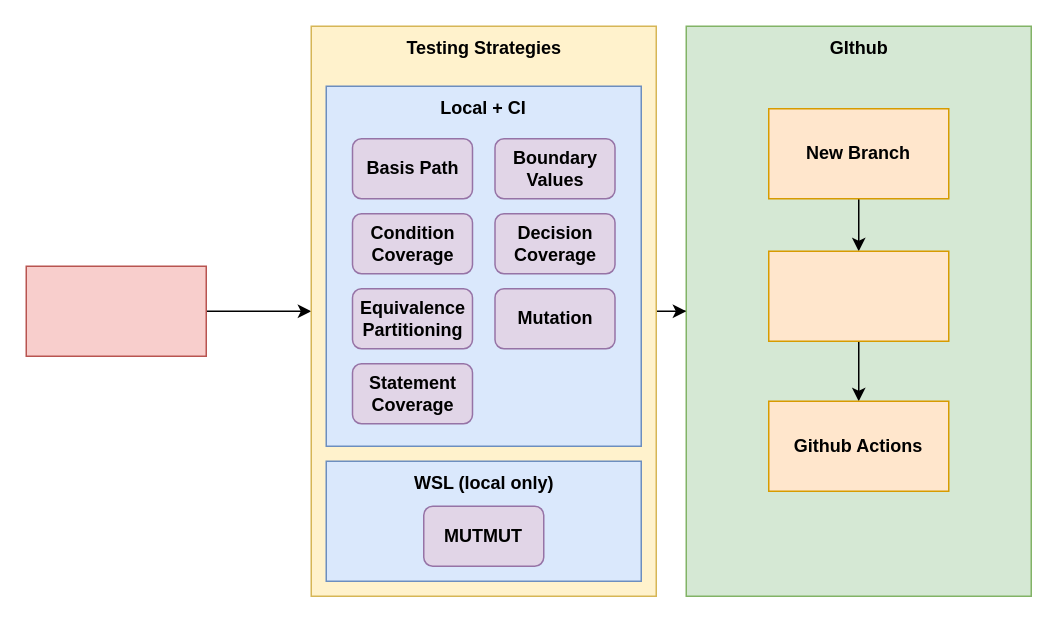
Image size: 1058x623. Some labels were removed from this diagram. The centre of each missing label's shape, as x and y in pixels:
Local Dev: [115,310]
Master: [858,295]
